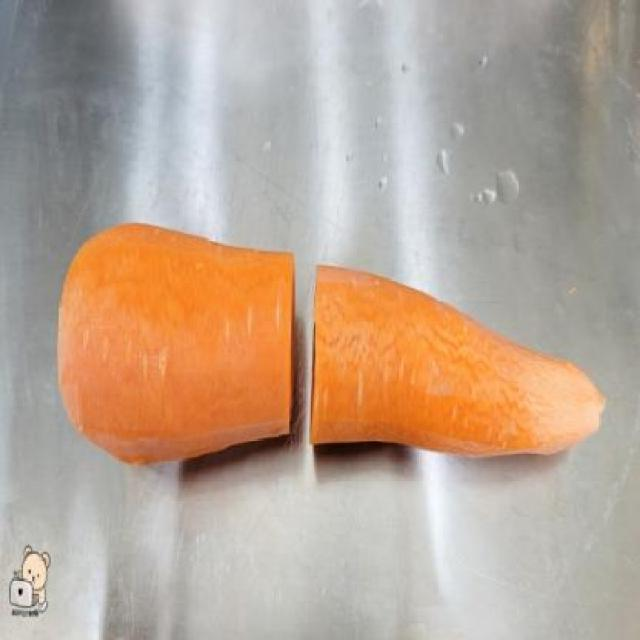carrot: (305, 253, 611, 467), (57, 221, 300, 473)
